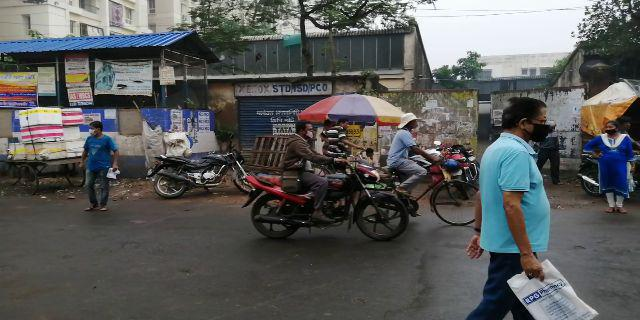Cycle: (372, 118, 482, 229)
Motorbike: (237, 122, 407, 245), (146, 157, 232, 197)
